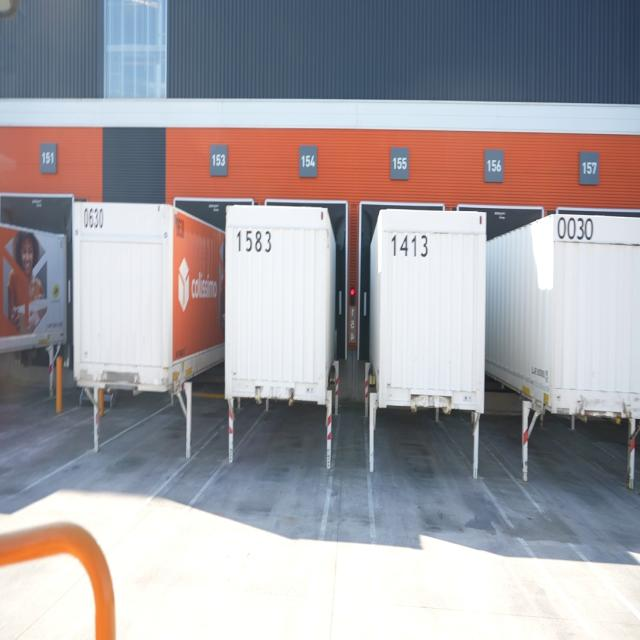Code: (389, 230, 428, 264), (234, 227, 273, 258), (557, 218, 595, 242), (82, 205, 106, 235)
